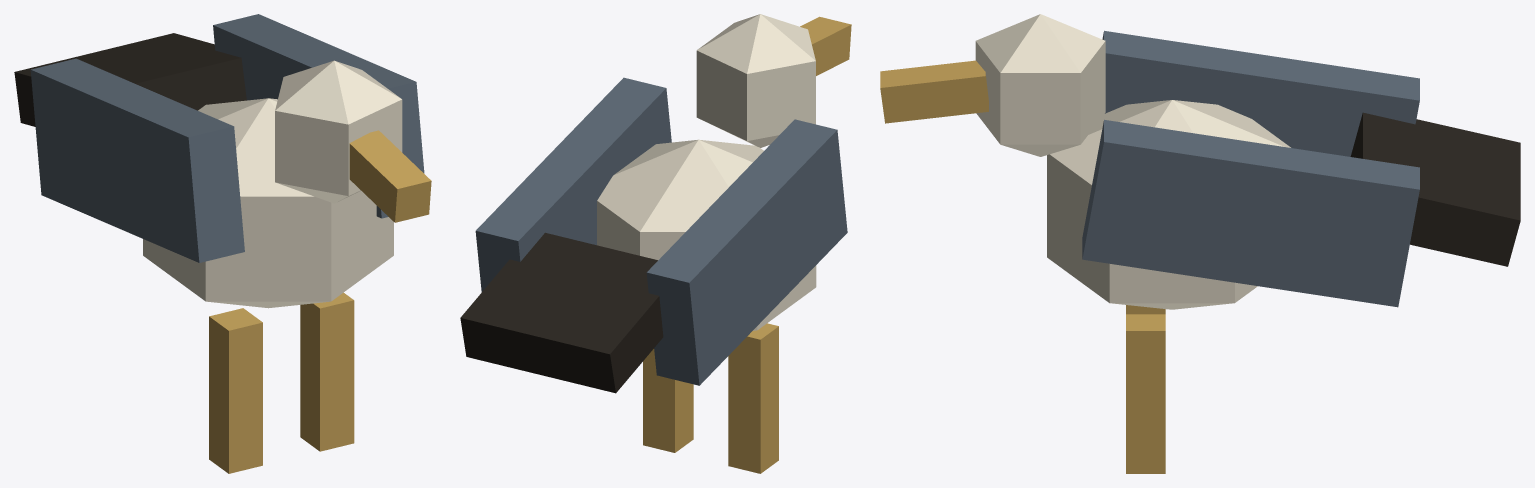
Rendered from dress-gull.glb.
The picture shows the model from 3 angles, left to right: view 1: azimuth 30°, elevation 25°; view 2: azimuth 150°, elevation 25°; view 3: azimuth 270°, elevation 25°; orthographic projection. The views are drawn at different scales.
Parts seen in each view (by area): view 1: dress-gull; view 2: dress-gull; view 3: dress-gull.
Boxes of the visible parts, bbox=[...] form: dress-gull: bbox=[14, 14, 431, 473]; dress-gull: bbox=[460, 14, 851, 473]; dress-gull: bbox=[880, 14, 1520, 473].
Bounding box in the file's own units: 0.2 × 0.36 × 0.4867.
Materials: 1 (1 with a texture image).
